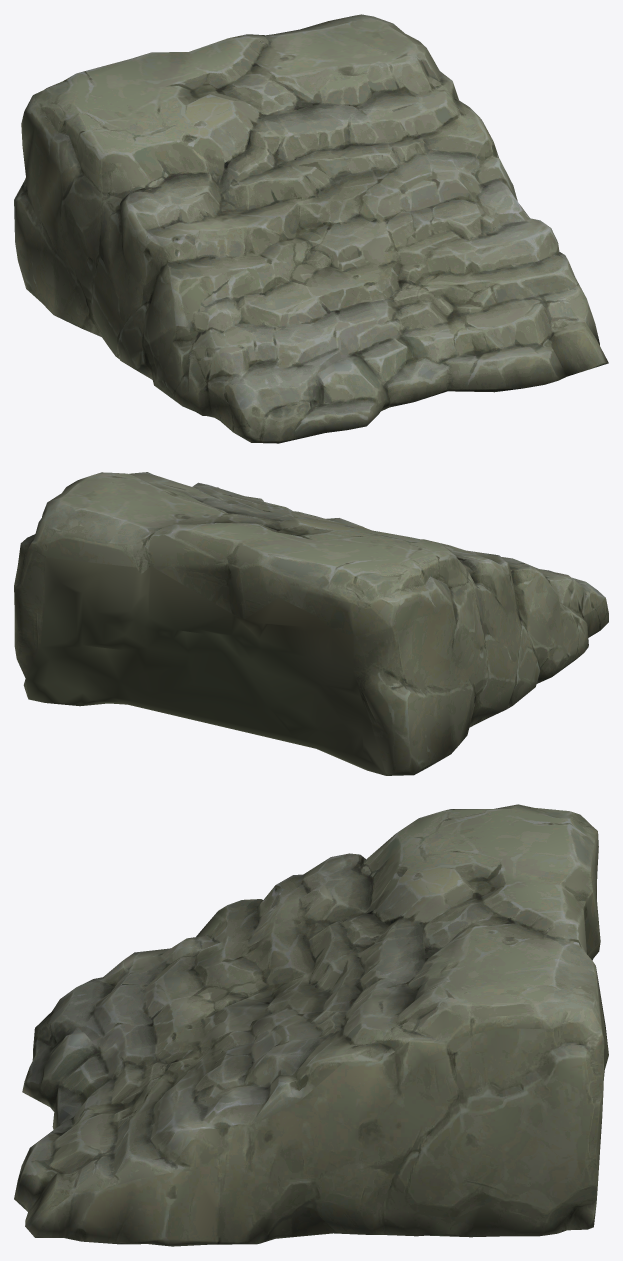
The picture shows the model from 3 angles, top to bottom: view 1: azimuth 30°, elevation 25°; view 2: azimuth 150°, elevation 25°; view 3: azimuth 270°, elevation 25°; orthographic projection. The views are drawn at different scales.
Parts seen in each view (by area): view 1: Dn_HL_Stairs_Rock_A.001; view 2: Dn_HL_Stairs_Rock_A.001; view 3: Dn_HL_Stairs_Rock_A.001.
Part boxes in pixels (box(x1,y1,x2,y2)): Dn_HL_Stairs_Rock_A.001: box(14, 14, 608, 443); Dn_HL_Stairs_Rock_A.001: box(14, 472, 608, 775); Dn_HL_Stairs_Rock_A.001: box(14, 804, 608, 1246).
Bounding box in the file's own units: 8451 × 4124 × 9202.
